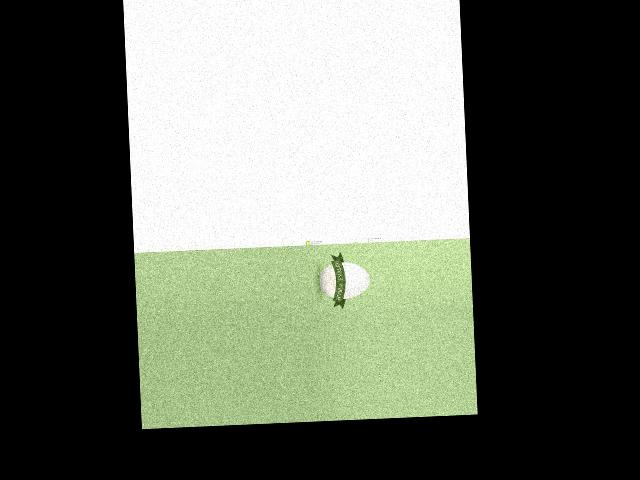egg: (318, 260, 370, 299)
